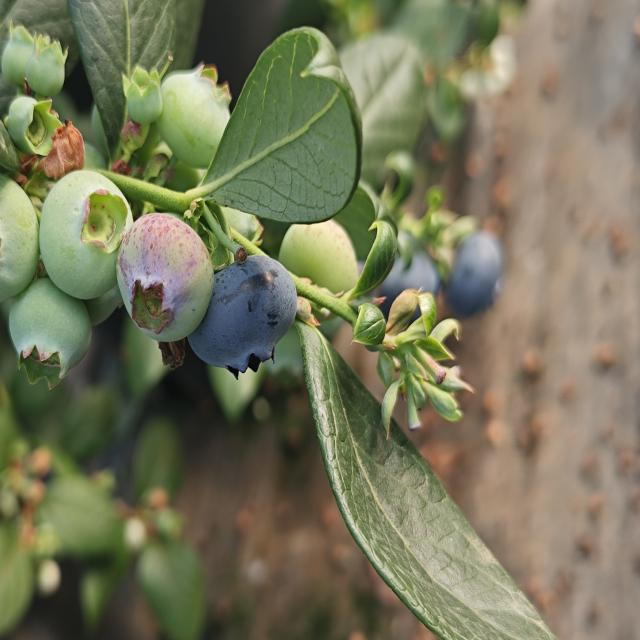ripe: (182, 250, 300, 373), (362, 240, 439, 328), (444, 228, 506, 312)
